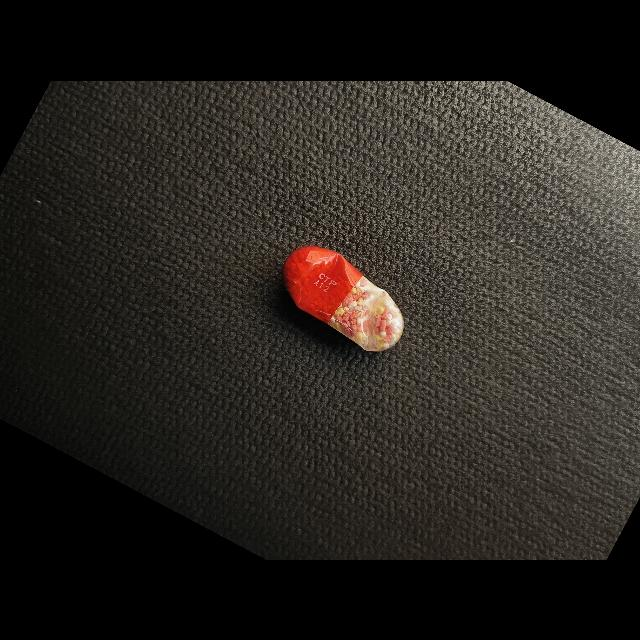Defective Capsule: (282, 245, 404, 351)
